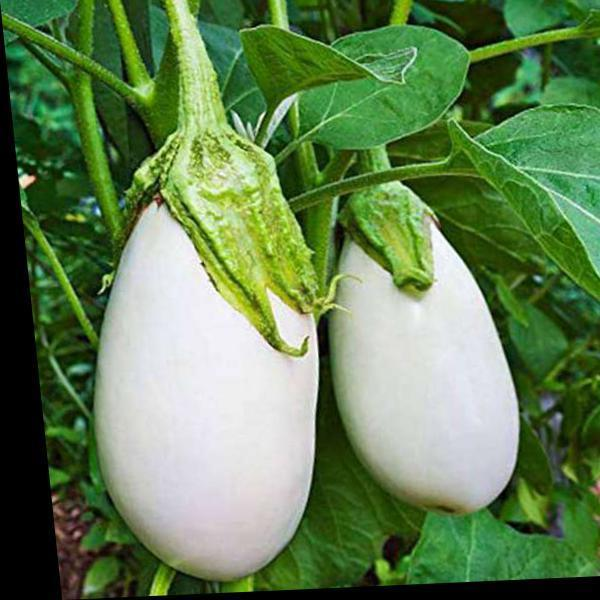eggplant: (47, 64, 359, 588), (282, 118, 544, 520)
